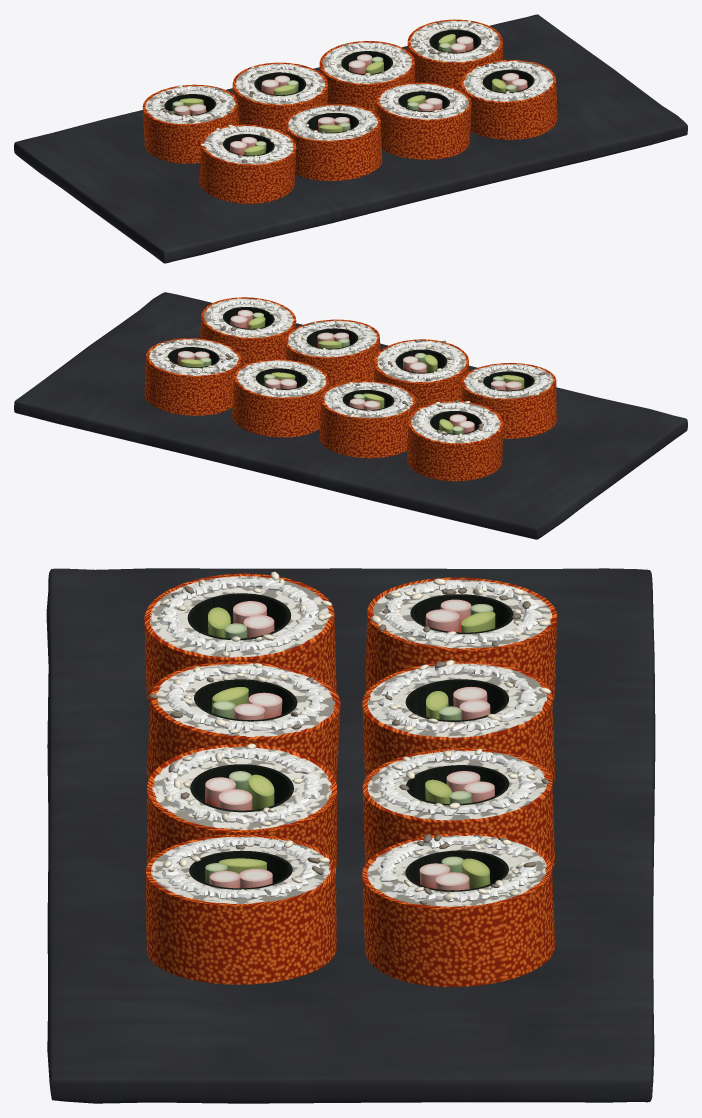
File: california-roll.glb
3 renders of one model, top to bottom at view 1: azimuth 30°, elevation 25°; view 2: azimuth 150°, elevation 25°; view 3: azimuth 270°, elevation 25°, orthographic. The views are drawn at different scales.
Visible parts, largest first — view 1: base, tobiko, sushi-rice, nori, crab, sesame, avocado, cucumber; view 2: base, tobiko, sushi-rice, nori, crab, sesame, avocado, cucumber; view 3: base, tobiko, sushi-rice, nori, crab, sesame, avocado, cucumber.
Boxes of the visible parts, x1,y1,x2,y2 form: base: [14, 14, 687, 263]; tobiko: [142, 19, 557, 203]; sushi-rice: [145, 21, 553, 164]; nori: [164, 29, 534, 156]; crab: [174, 36, 527, 154]; sesame: [149, 20, 538, 162]; avocado: [179, 34, 506, 155]; cucumber: [172, 43, 516, 153]; base: [14, 292, 687, 539]; tobiko: [144, 297, 556, 481]; sushi-rice: [149, 298, 553, 443]; nori: [168, 307, 534, 434]; crab: [177, 310, 521, 433]; sesame: [149, 299, 549, 440]; avocado: [180, 317, 524, 433]; cucumber: [200, 312, 504, 433]; base: [46, 568, 655, 1103]; tobiko: [144, 573, 556, 986]; sushi-rice: [150, 576, 551, 906]; nori: [187, 593, 513, 891]; crab: [205, 599, 494, 890]; sesame: [148, 571, 551, 904]; avocado: [208, 607, 495, 888]; cucumber: [205, 604, 493, 883].
Bounding box in the file's own units: 0.3001 × 0.0324 × 0.1505.
9 materials, 7 textured.
